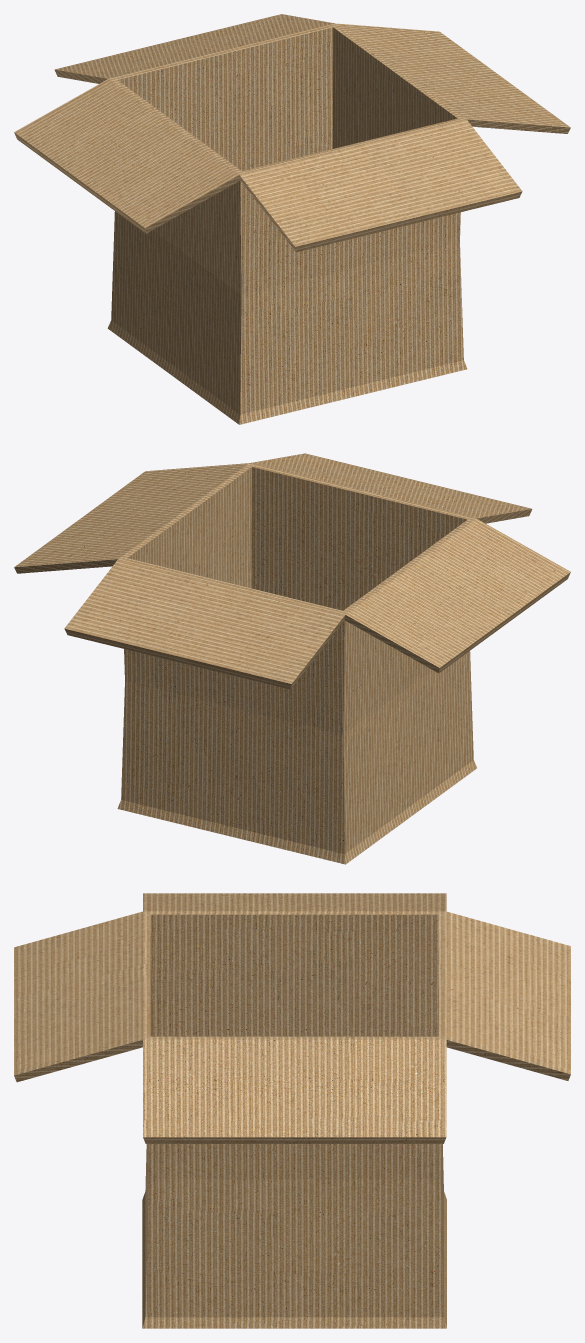
File: caja_carton_abierta.fbx
3 views of the same model, one above another, from view 1: azimuth 30°, elevation 25°; view 2: azimuth 150°, elevation 25°; view 3: azimuth 270°, elevation 25° (orthographic). The views are drawn at different scales.
Visible parts, largest first — view 1: openCardboardCrate:Mesh; view 2: openCardboardCrate:Mesh; view 3: openCardboardCrate:Mesh.
Part boxes in pixels (left/top/right/bottom): openCardboardCrate:Mesh: left=14, top=14, right=570, bottom=424; openCardboardCrate:Mesh: left=14, top=453, right=570, bottom=864; openCardboardCrate:Mesh: left=14, top=893, right=570, bottom=1328.
Bounding box in the file's own units: 3.73 × 2.09 × 3.66.
Materials: 1 (1 with a texture image).
